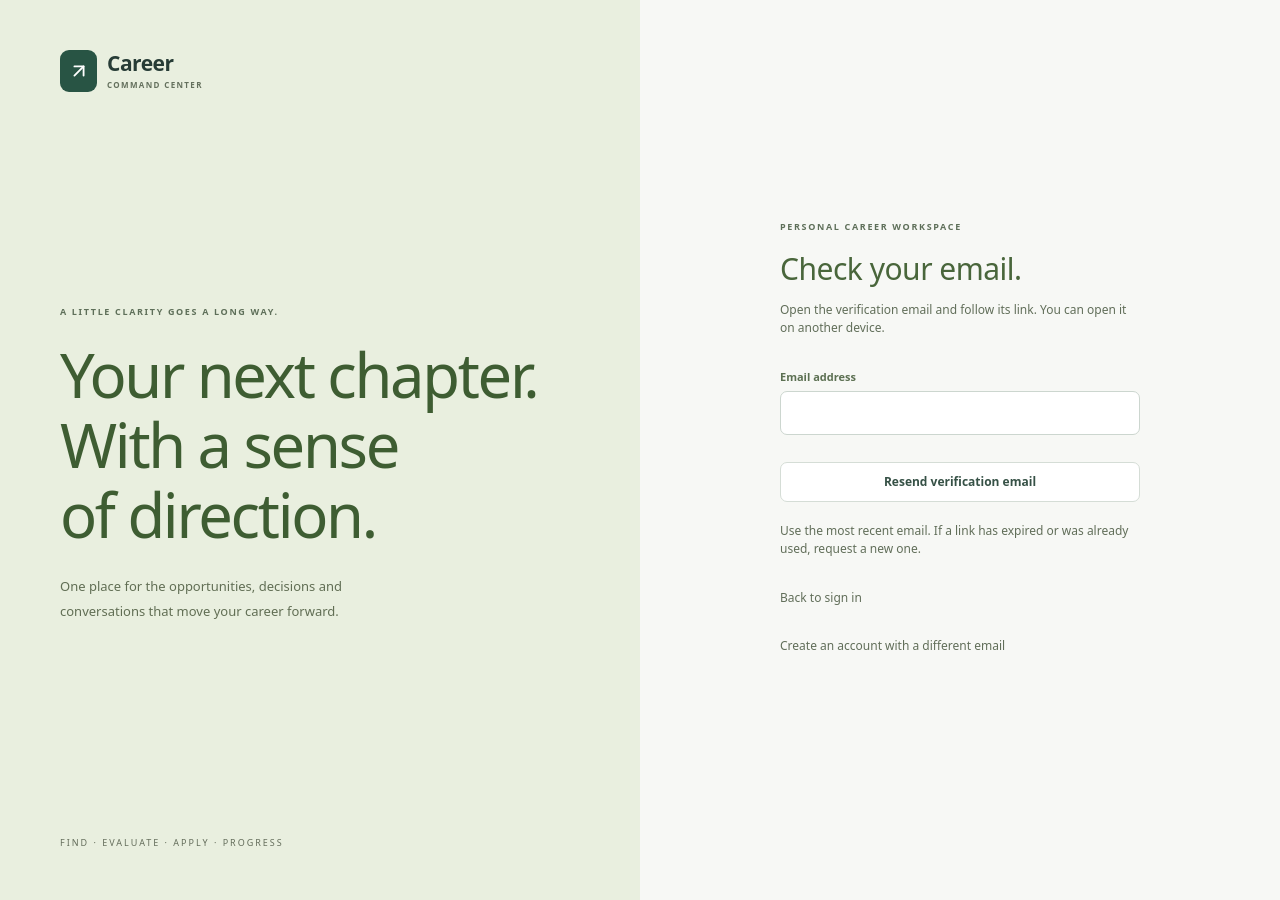
Test case: verified signup › resends confirmation with a cooldown and generic account response
Type "pending@example.test" into the field labelled "Email address" at {"x": 960, "y": 413}, box [780,391,1140,435]
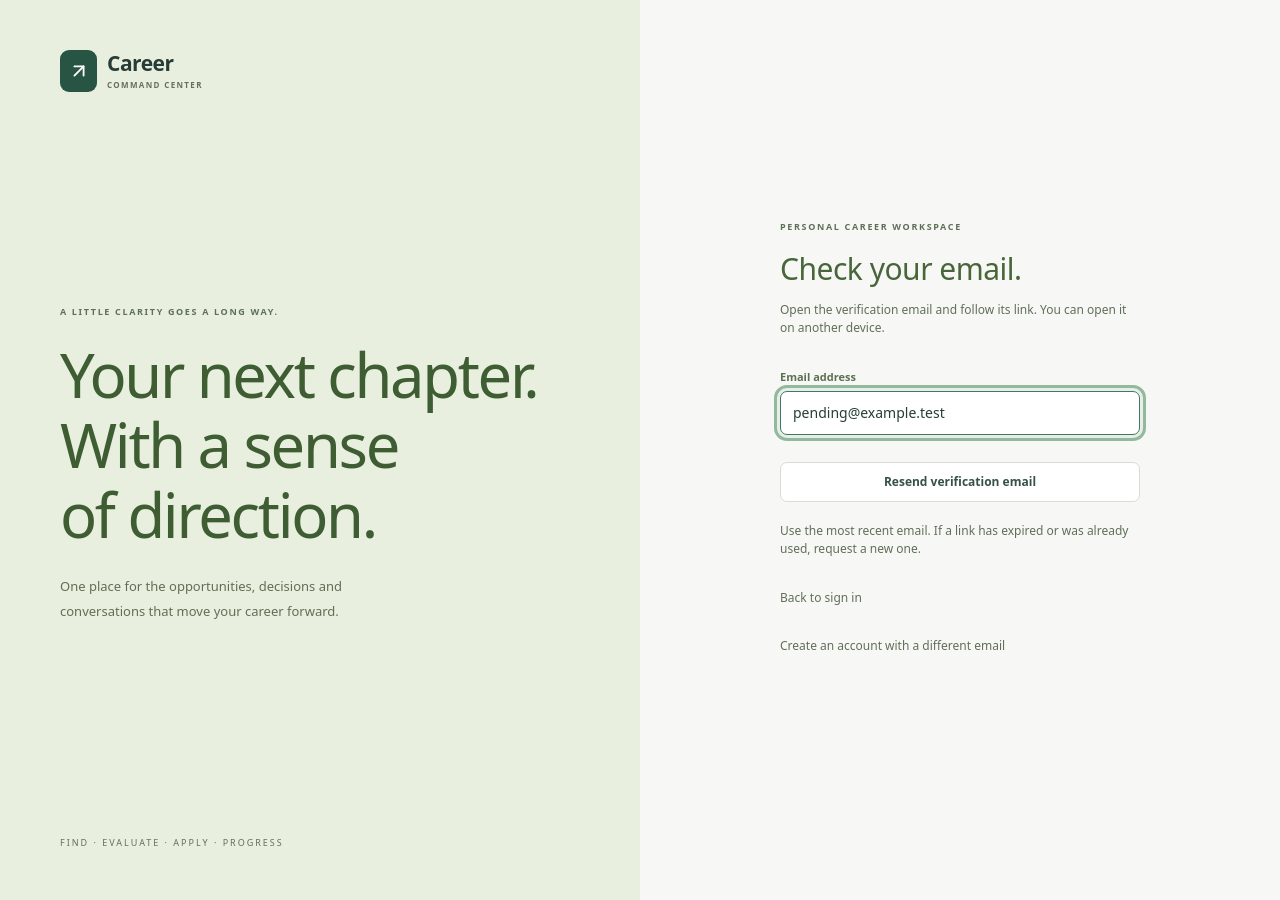
Click the button "Resend verification email" at {"x": 960, "y": 482}, box [780,462,1140,502]
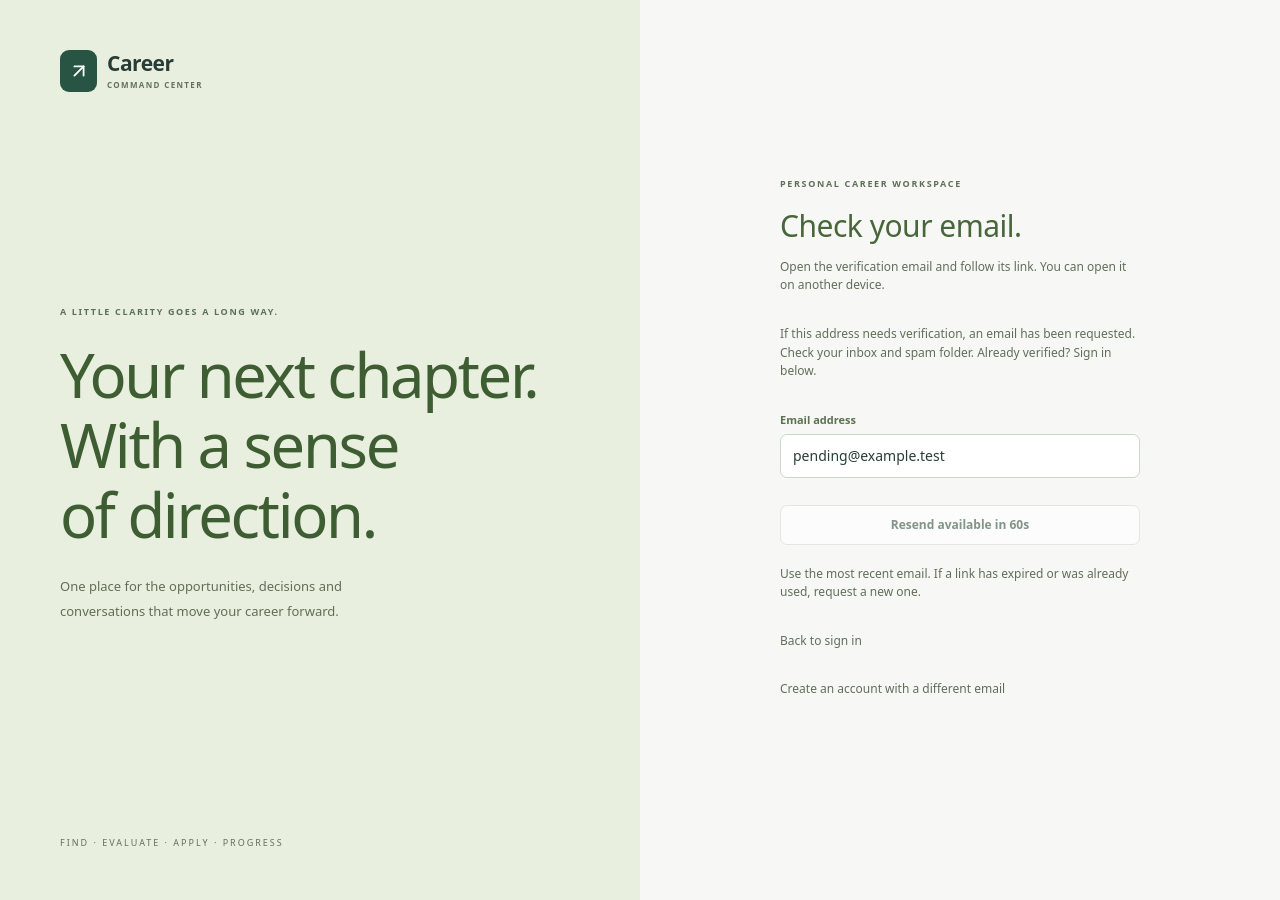
Check: the message shows "If this address needs verification", box [780,325,1135,379]
Check: the button "Resend available in 60s" is disabled, box [780,504,1140,544]
